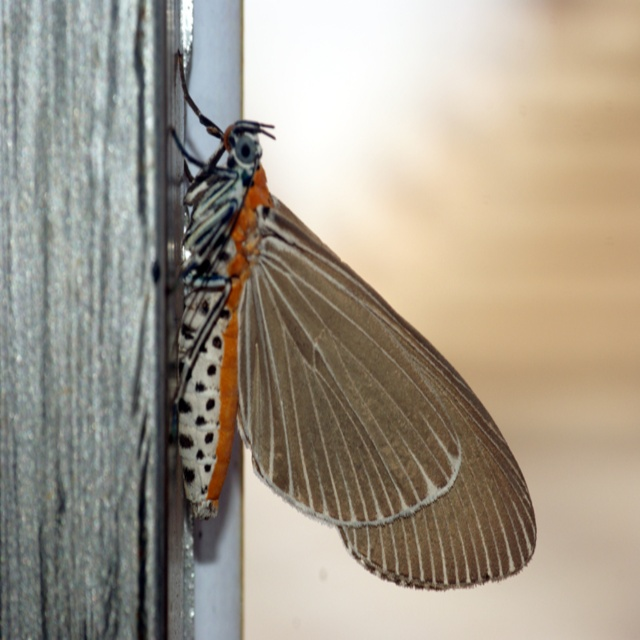Butterfly: (170, 50, 536, 590)
